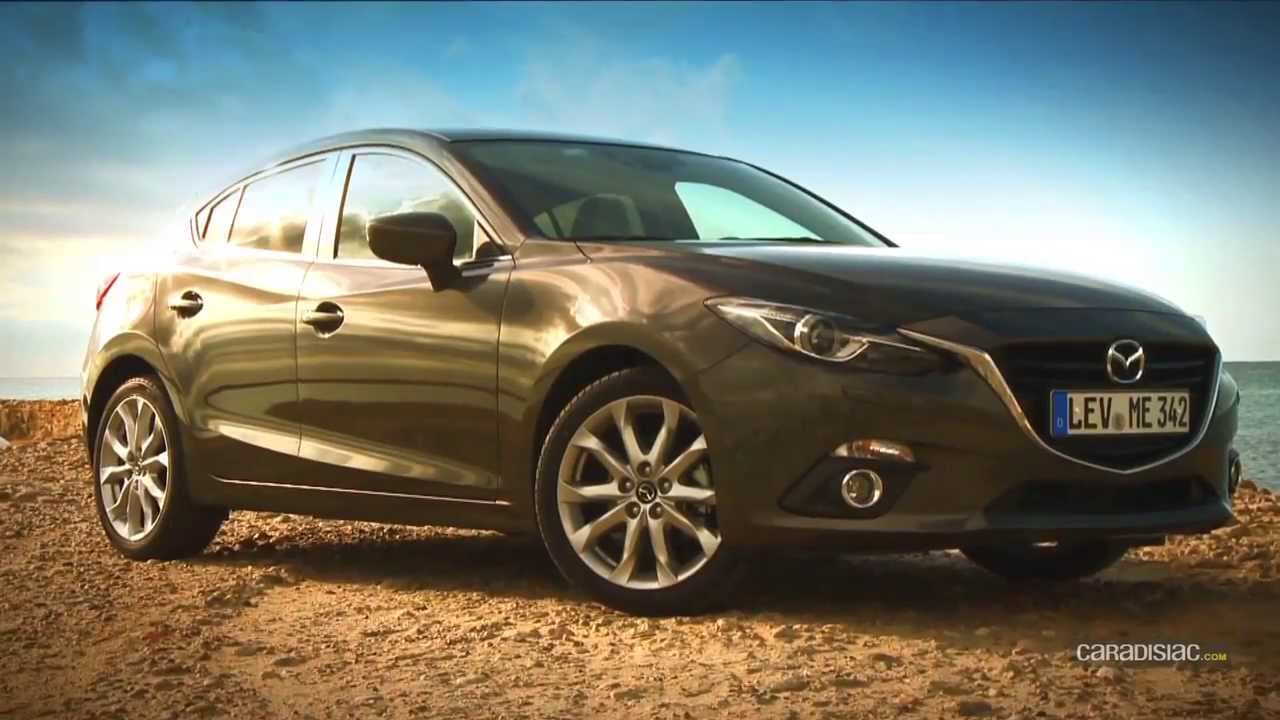Mazda3 Hatchback: (81, 127, 1244, 617)
